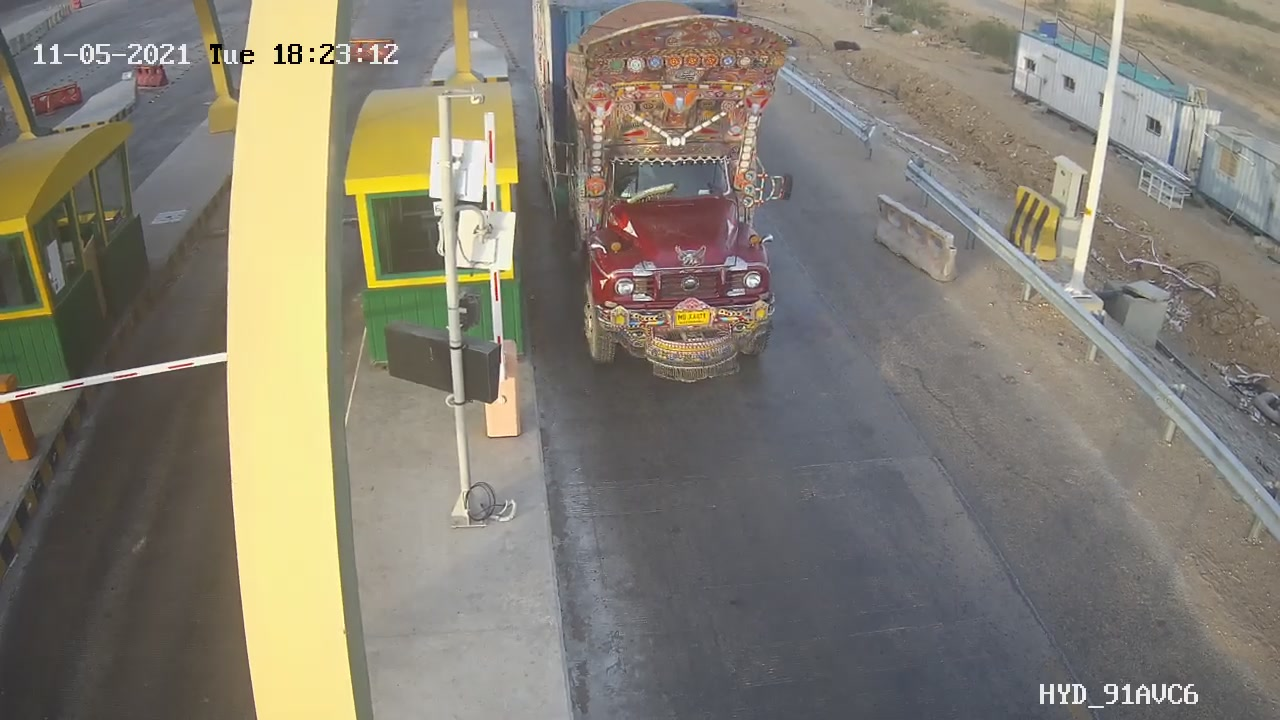F5: (532, 16, 809, 385)
